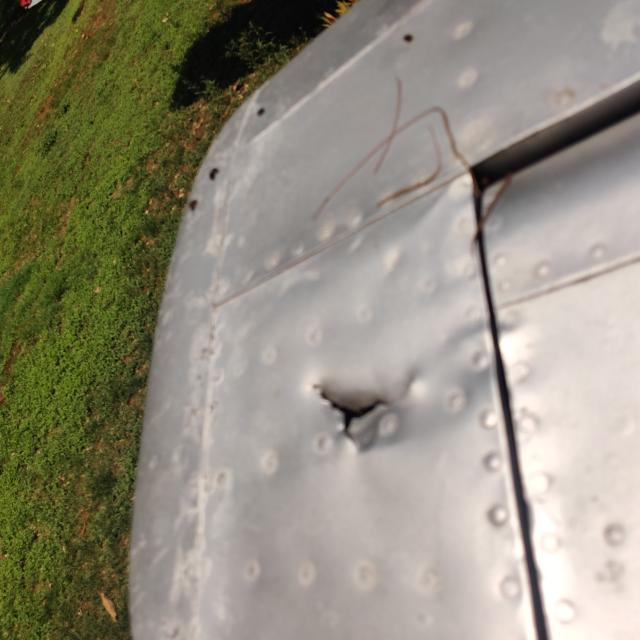crack: (179, 301, 275, 403)
